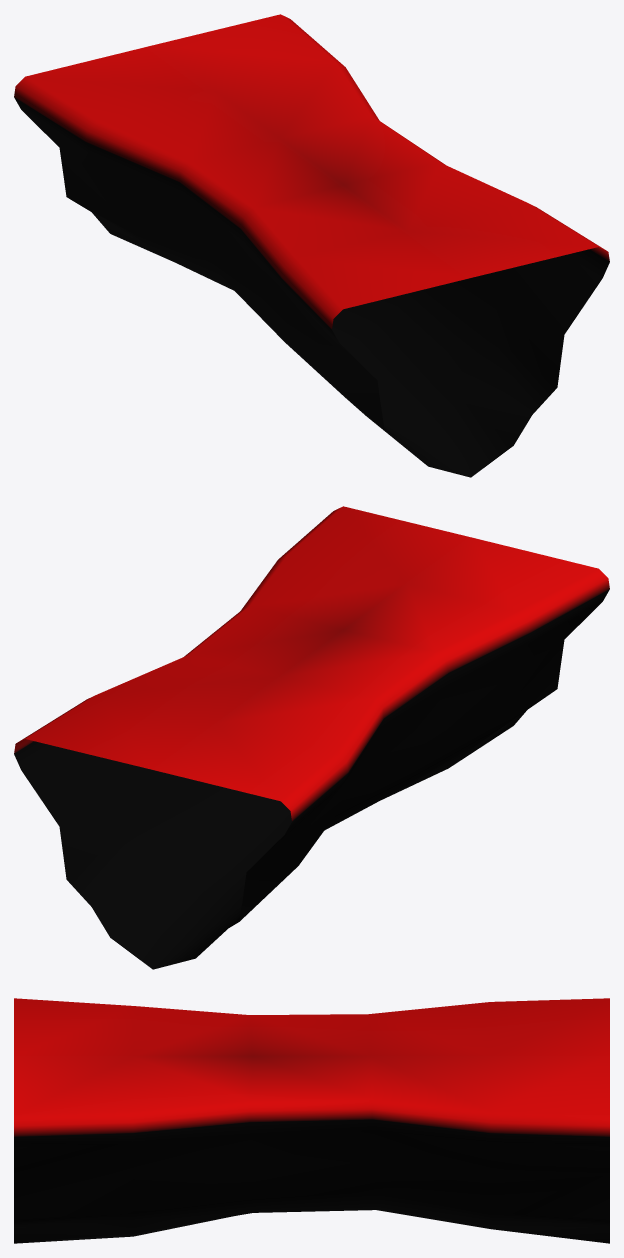
Rendered from CrossingCliff01A 2M Background.fbx.
3 views of the same model, one above another, from view 1: azimuth 30°, elevation 25°; view 2: azimuth 150°, elevation 25°; view 3: azimuth 270°, elevation 25° (orthographic). The views are drawn at different scales.
Visible parts, largest first — view 1: CrossingCliff01A 2M Background; view 2: CrossingCliff01A 2M Background; view 3: CrossingCliff01A 2M Background.
Boxes of the visible parts, x1,y1,x2,y2 form: CrossingCliff01A 2M Background: [14, 14, 609, 477]; CrossingCliff01A 2M Background: [14, 506, 609, 969]; CrossingCliff01A 2M Background: [14, 998, 609, 1243].
Size of the model in its own units: 1.01 by 0.693 by 2.
